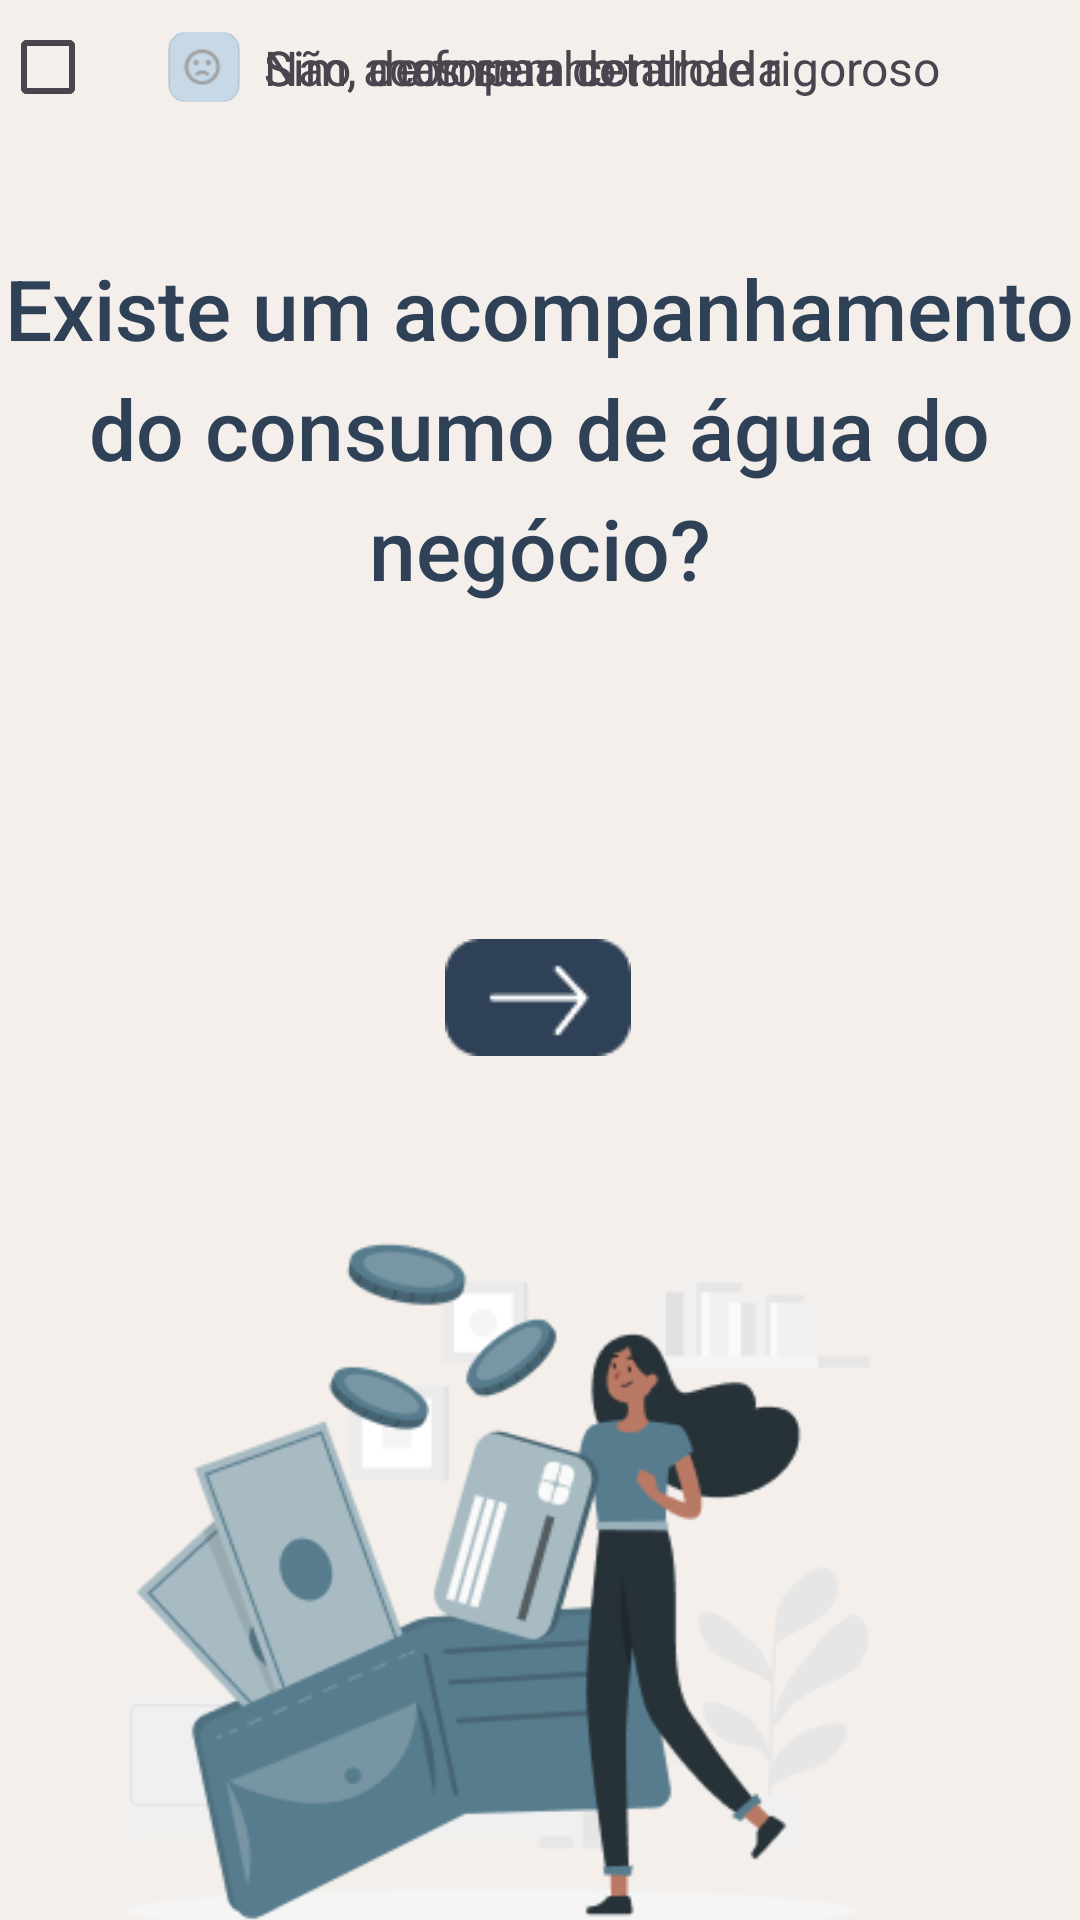

Screen size 1080*1920. Icon name, then its center in pixels as (x,y):
btnpassar: (538,997)
